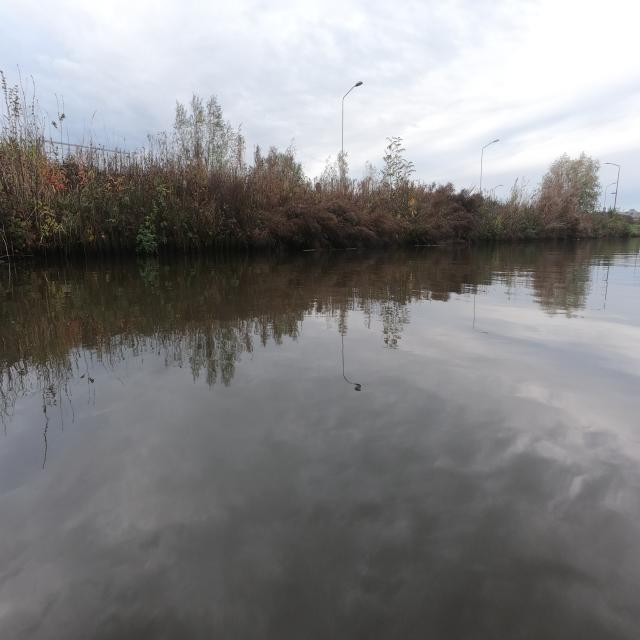reed: (0, 72, 640, 262)
sky: (1, 0, 639, 190)
water: (1, 244, 638, 639)
